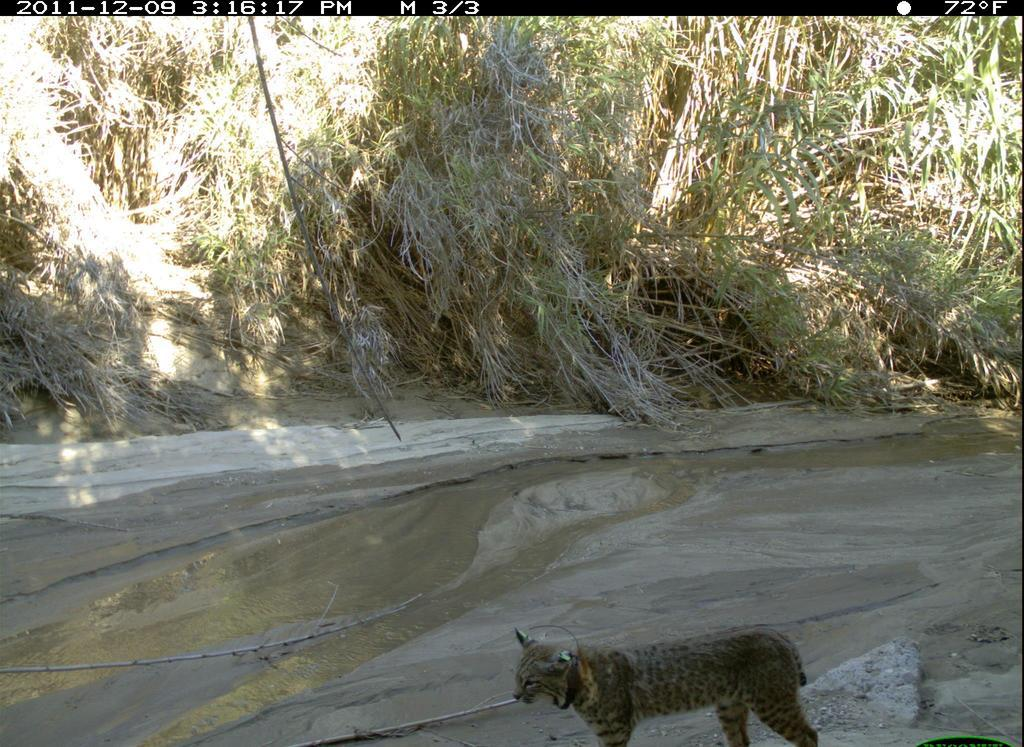bobcat: (501, 606, 818, 744)
